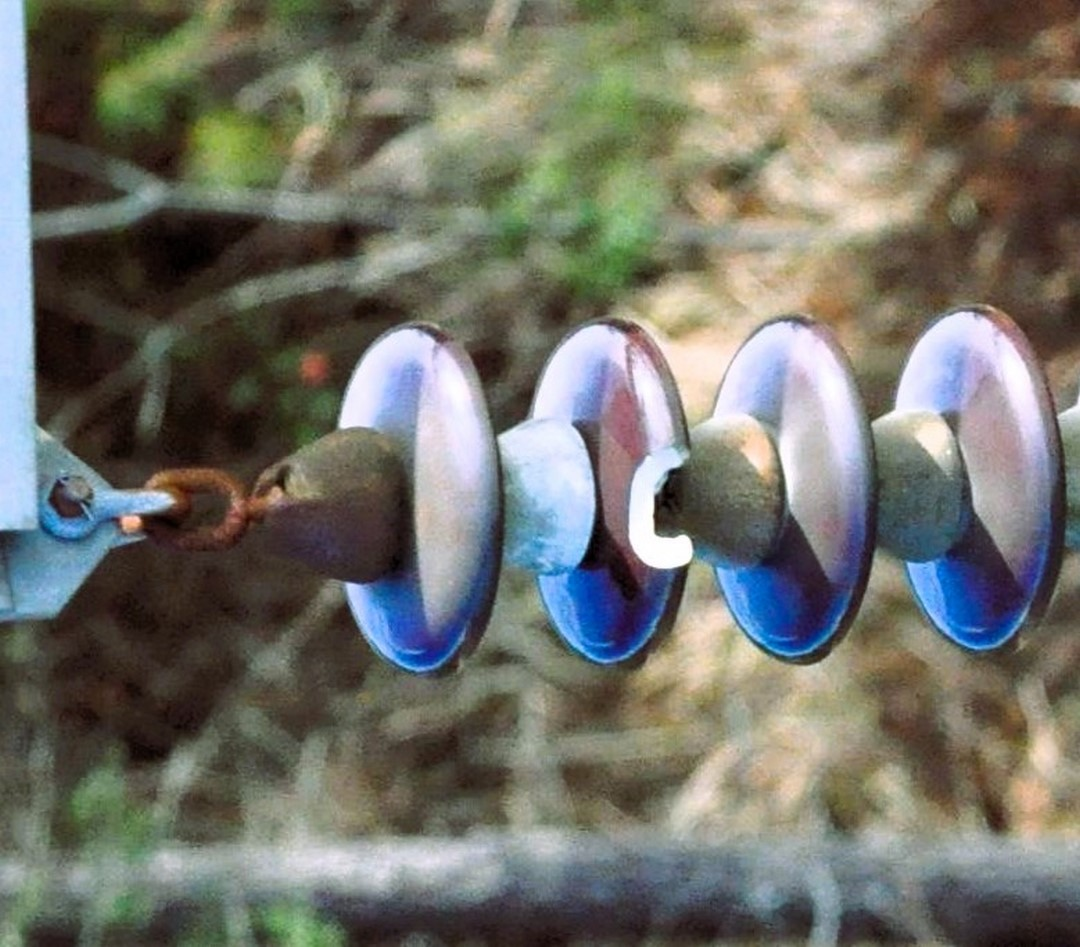insulator breakage: (515, 310, 711, 668)
